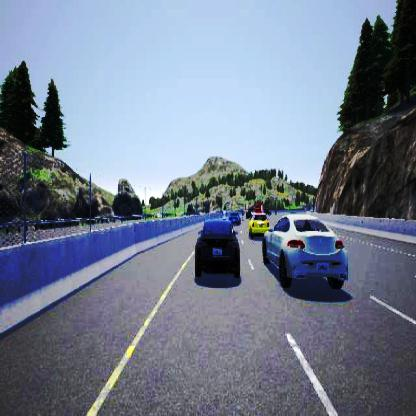vehicle: (262, 204, 347, 286), (194, 211, 240, 277), (247, 209, 270, 240)
